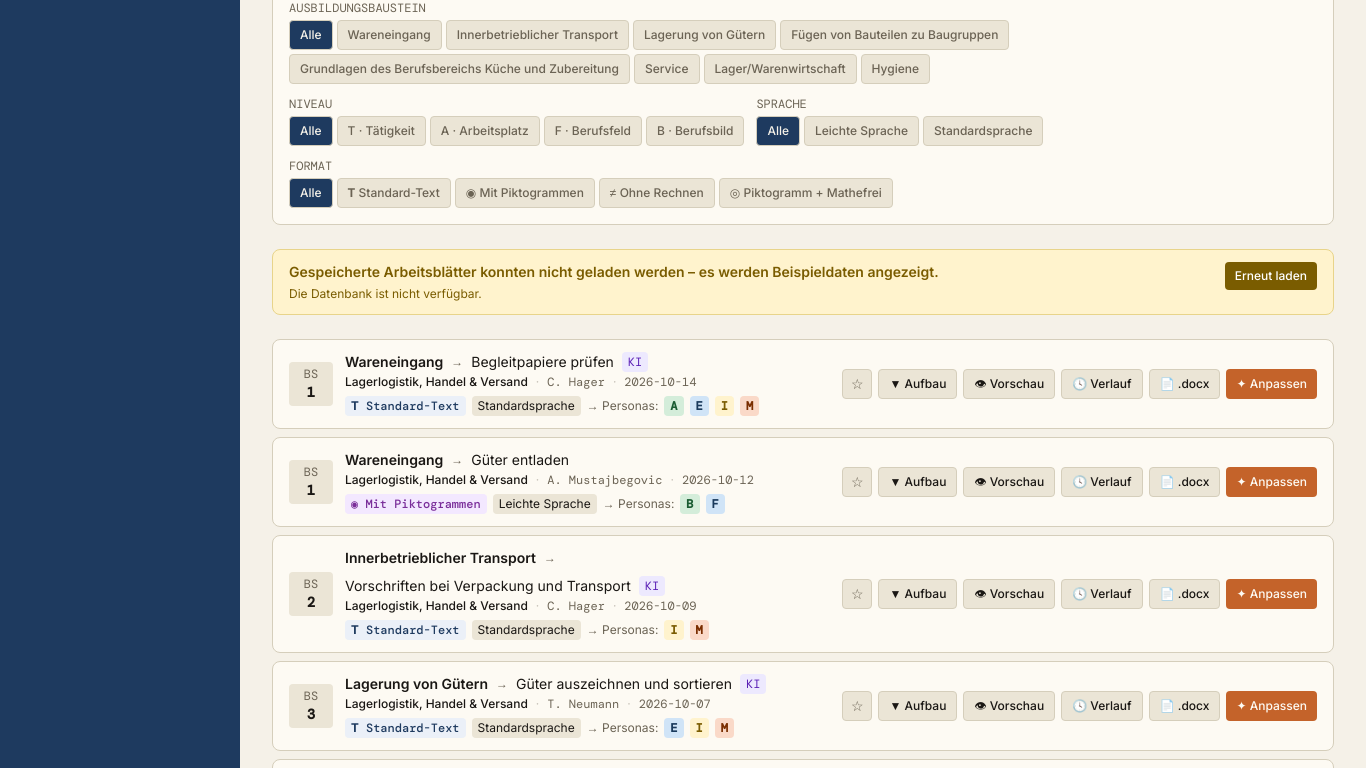
Scenario: Arbeitsblätter › oeffnet Vorschau und Verlauf im Seitenpanel
(page scrolled)
Check: the element "Begleitpapiere prüfen" is shown, box [272,339,1334,429]
Click the button "🕓 Verlauf" in the row of "2026-10-14": [1102, 384] box [1061,369,1143,399]
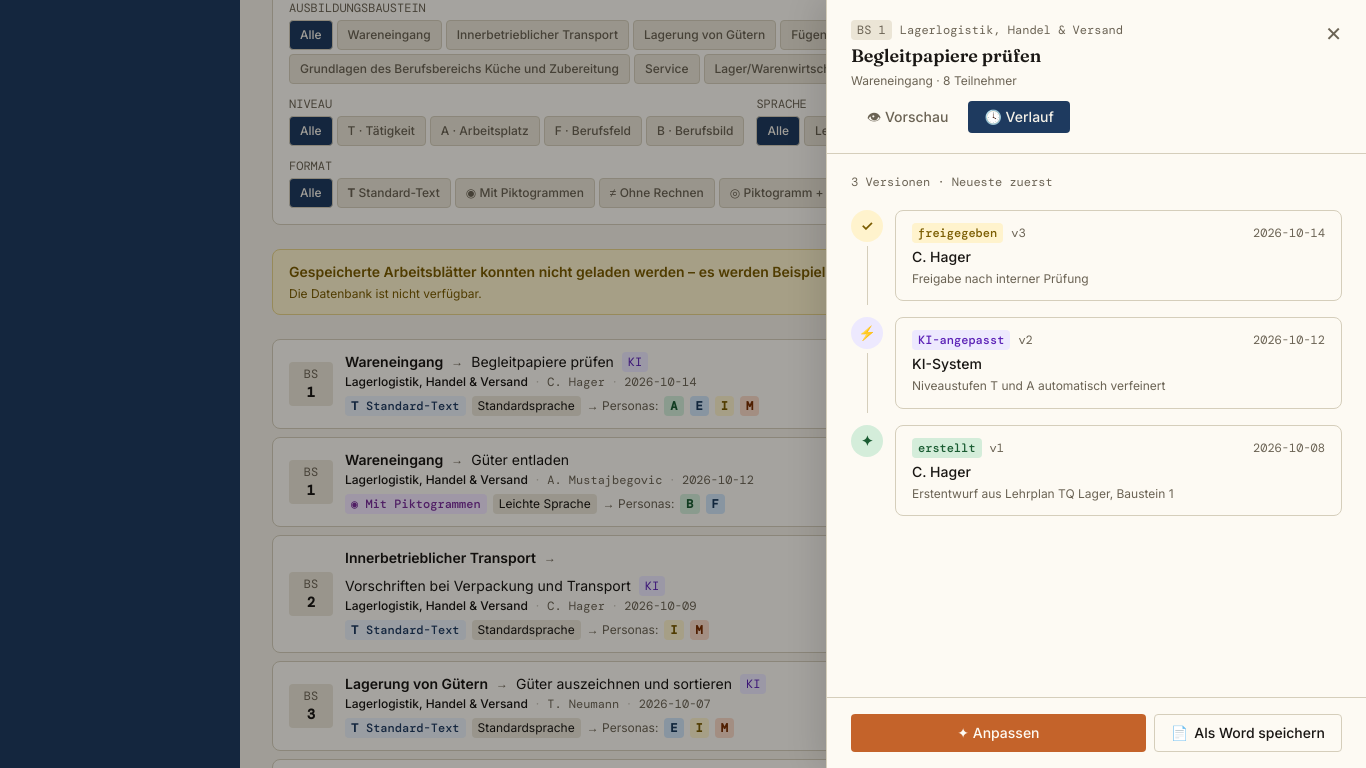
Check: the text "3 Versionen · Neueste zuerst" is shown, box [851,174,1053,190]
Press Escape
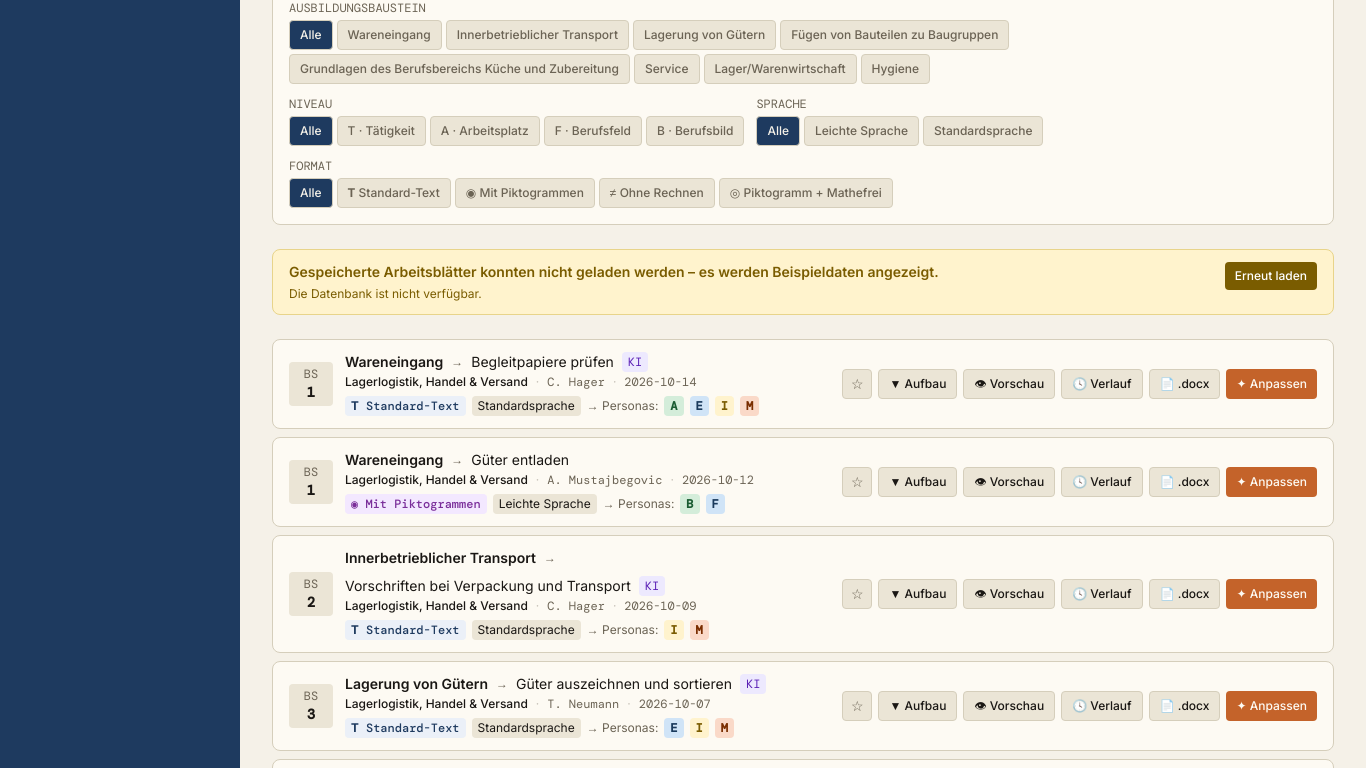
Check: the dialog is gone
